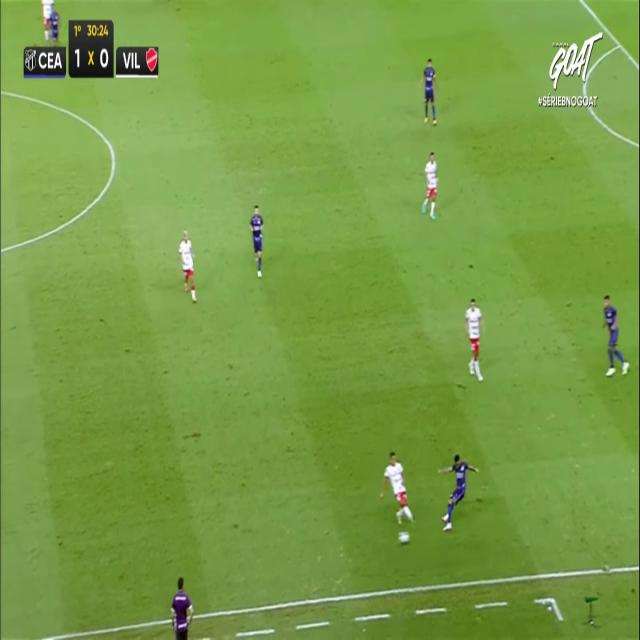ball: (399, 532, 409, 547)
player: (437, 453, 479, 531), (380, 451, 414, 525), (602, 293, 630, 376), (465, 297, 485, 381), (177, 229, 197, 303), (420, 57, 438, 124), (421, 151, 438, 220), (249, 205, 263, 278), (44, 14, 65, 60), (39, 0, 56, 49)
